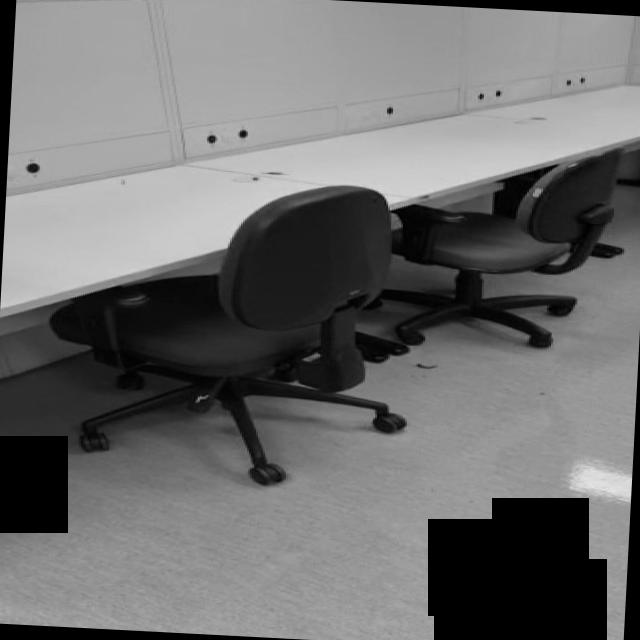cadeira-azul: (42, 169, 422, 493)
